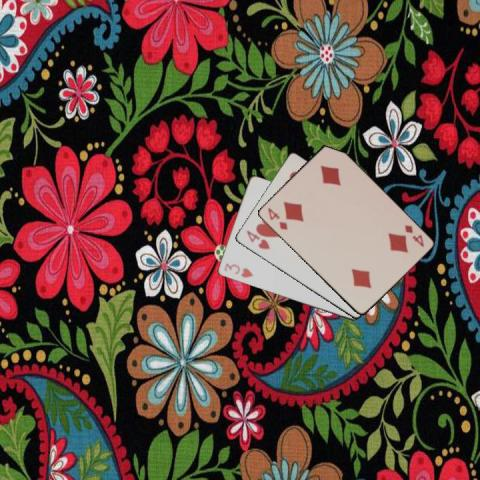3h: (221, 260, 254, 279)
4d: (402, 222, 426, 249), (264, 205, 288, 231)
4h: (244, 226, 272, 250)
